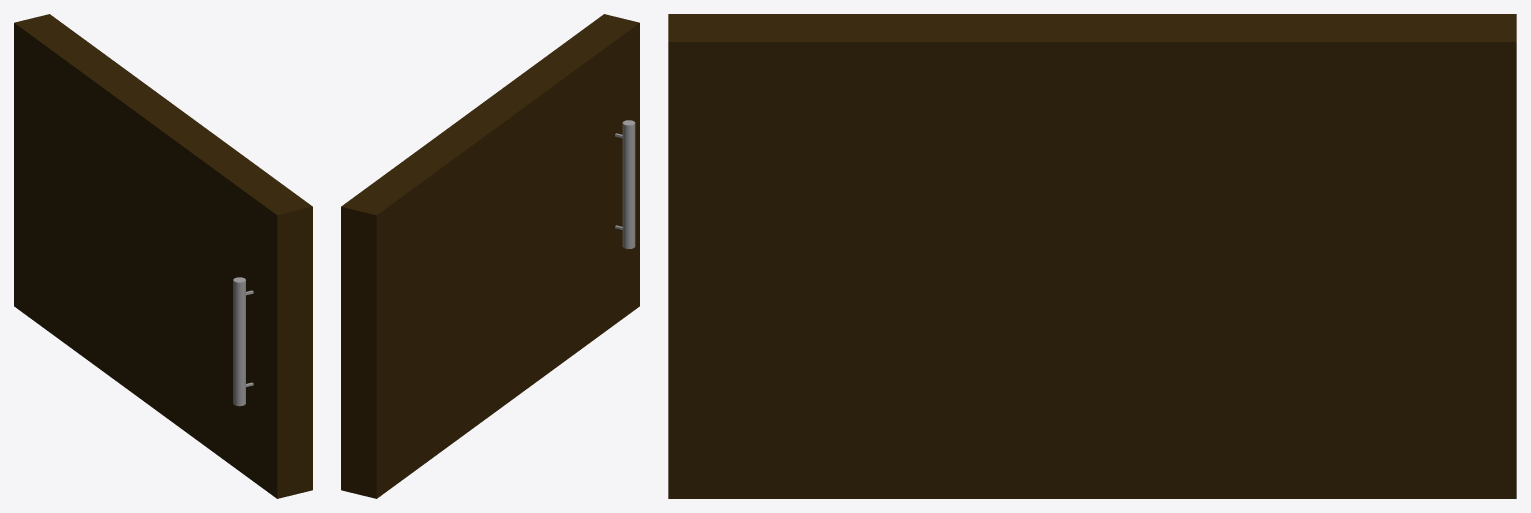
The model's file is CupboardDoorLeft.fbx.
3 views of the same model, side by side, from view 1: azimuth 30°, elevation 25°; view 2: azimuth 150°, elevation 25°; view 3: azimuth 270°, elevation 25° (orthographic). The views are drawn at different scales.
Visible parts, largest first — view 1: Cupboard door left; view 2: Cupboard door left; view 3: Cupboard door left.
Boxes of the visible parts, x1,y1,x2,y2 form: Cupboard door left: [14, 14, 312, 498]; Cupboard door left: [341, 14, 639, 498]; Cupboard door left: [668, 14, 1516, 498].
Bounding box in the file's own units: 72.85 × 362 × 609.
